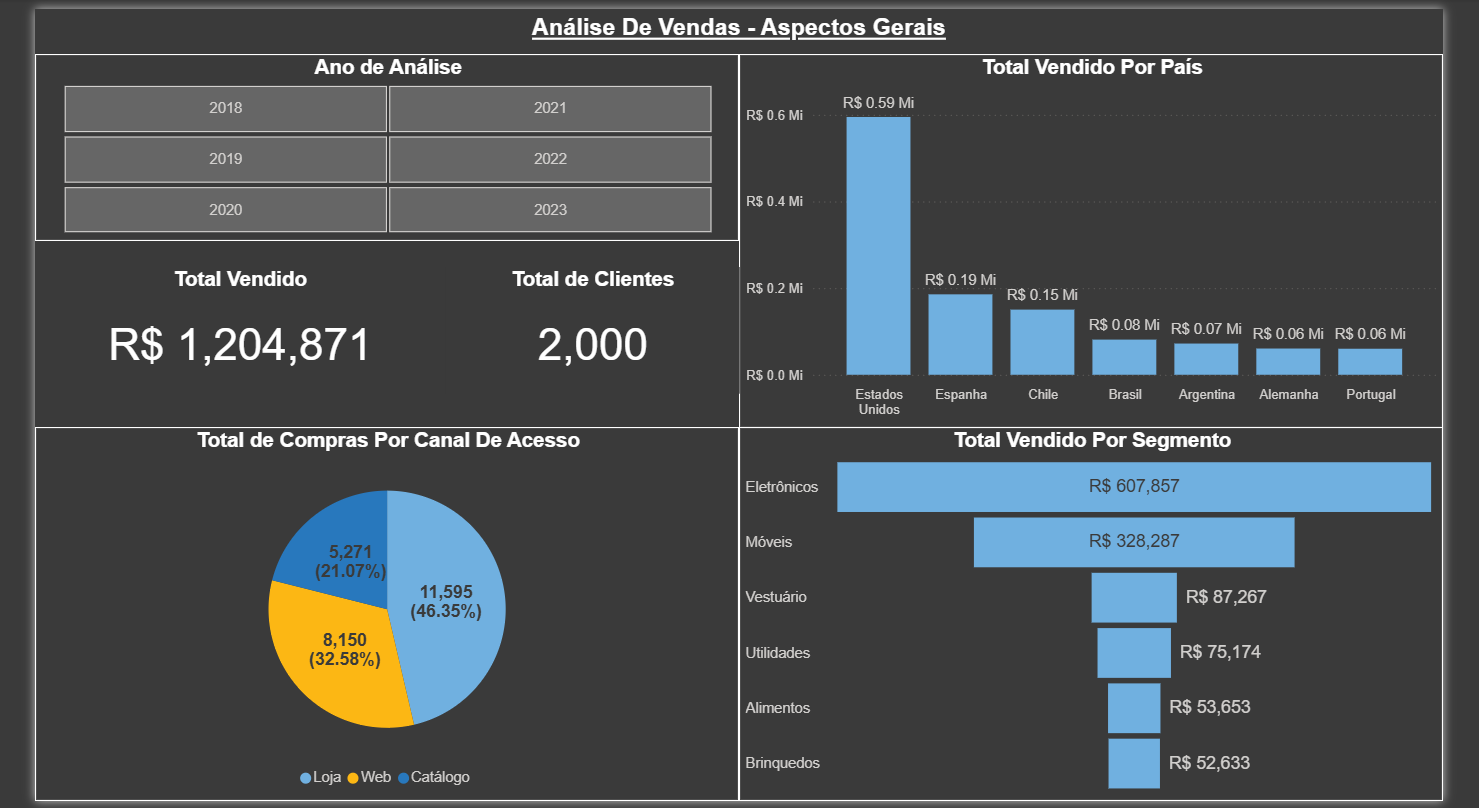

The dashboard page shown, as its layout file describes it:
{"tool":"powerbi","page":{"name":"Página 1","canvas":[1280,720],"ordinal":0},"visuals":[{"type":"pieChart","title":"Total de Compras Por Canal De Acesso","fields":{"Y":["Sum(dados_marketing.Numero de Compras na Loja)","Sum(dados_marketing.Numero de Compras na Web)","Sum(dados_marketing.Numero de Compras via Catalogo)"]},"box":[0,380.4,640.2,339.6],"z":0},{"type":"funnel","title":"Total Vendido Por Segmento","fields":{"Y":["Sum(dados_marketing.Gasto com Eletronicos)","Sum(dados_marketing.Gasto com Moveis)","Sum(dados_marketing.Gasto com Vestuario)","Sum(dados_marketing.Gasto com Utilidades)","Sum(dados_marketing.Gasto com Alimentos)","Sum(dados_marketing.Gasto com Brinquedos)"]},"box":[640.2,380.4,640.2,339.6],"z":1000},{"type":"card","title":"Total Vendido","fields":{"Values":["Sum(dados_marketing.Total Gasto)"]},"box":[0,235,373.3,115.3],"z":2000},{"type":"clusteredColumnChart","title":"Total Vendido Por País","fields":{"Y":["Sum(dados_marketing.Total Gasto)"],"Category":["dados_marketing.Pais"]},"box":[640.2,40.8,640.2,339.6],"z":3000},{"type":"actionButton","box":[0,0,100,40],"z":4000},{"type":"card","title":"Total de Clientes","fields":{"Values":["CountNonNull(dados_marketing.ID)"]},"box":[373.3,235,266.9,115.3],"z":6000},{"type":"slicer","title":"Ano de Análise","fields":{"Values":["dados_marketing.Data Cadastro.Variation.Hierarquia de datas.Ano"]},"box":[0,40.8,640.2,170.2],"z":7000},{"type":"textbox","box":[0,0,1280,40],"z":8000}]}

Visuals, with their boxes in screenshot pixels (x1, y1, x2, y2), scaled from the page's 1280x720 canvas onto the 1479x808 screenshot:
"Total de Compras Por Canal De Acesso" pieChart: locate(0, 427, 740, 807)
"Total Vendido Por Segmento" funnel: locate(740, 427, 1478, 807)
"Total Vendido" card: locate(0, 264, 431, 393)
"Total Vendido Por País" clusteredColumnChart: locate(740, 46, 1478, 427)
actionButton: locate(0, 0, 116, 45)
"Total de Clientes" card: locate(431, 264, 740, 393)
"Ano de Análise" slicer: locate(0, 46, 740, 237)
textbox: locate(0, 0, 1478, 45)
